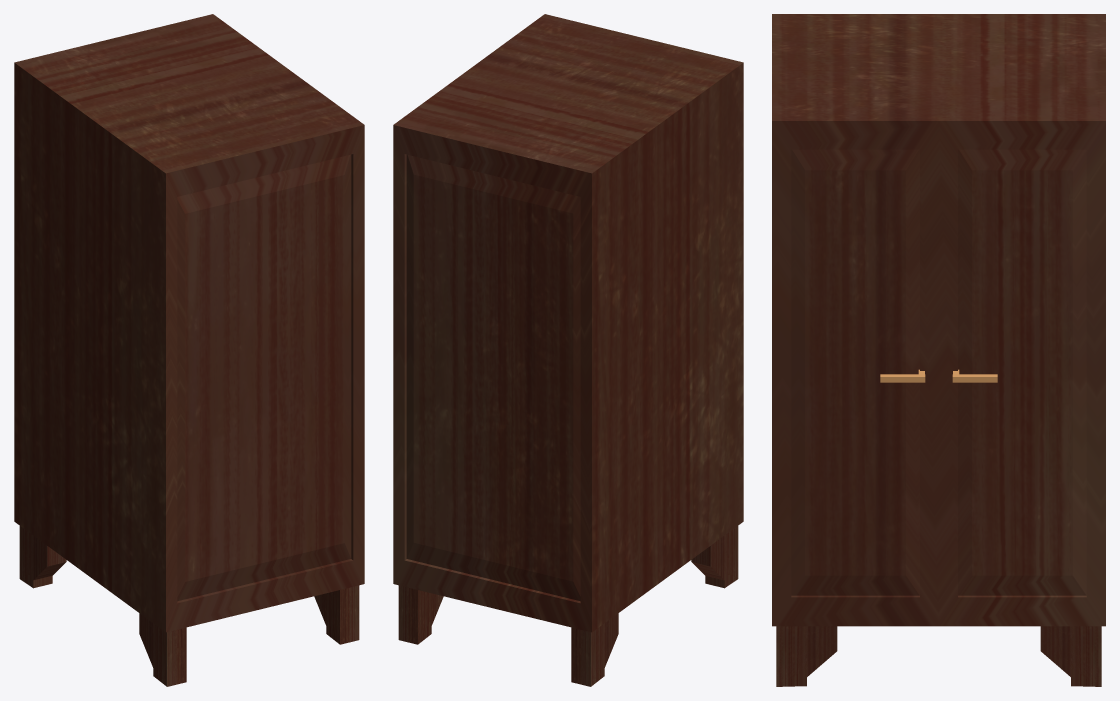
The model's file is evreything.fbx_Collection.fbx.
The picture shows the model from 3 angles, left to right: view 1: azimuth 30°, elevation 25°; view 2: azimuth 150°, elevation 25°; view 3: azimuth 270°, elevation 25°; orthographic projection. The views are drawn at different scales.
Parts seen in each view (by area): view 1: Cube, Cube.001; view 2: Cube, Cube.001; view 3: Cube, Cube.001, Cube.002.
Boxes of the visible parts, left/top/right/bottom form: Cube: left=14, top=14, right=364, bottom=632; Cube.001: left=19, top=526, right=359, bottom=686; Cube: left=393, top=14, right=743, bottom=632; Cube.001: left=398, top=526, right=738, bottom=686; Cube: left=772, top=14, right=1105, bottom=626; Cube.001: left=776, top=626, right=1101, bottom=686; Cube.002: left=880, top=369, right=997, bottom=382.
Size of the model in its own units: 264 by 496 by 212.
Materials: 2 (1 with a texture image).
